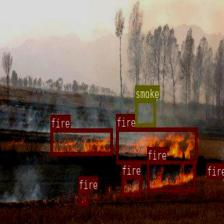fire: (116, 127, 196, 164), (50, 128, 112, 155), (147, 159, 195, 191), (121, 175, 141, 195), (207, 162, 220, 178), (78, 190, 88, 205)
smoke: (135, 99, 155, 127)
